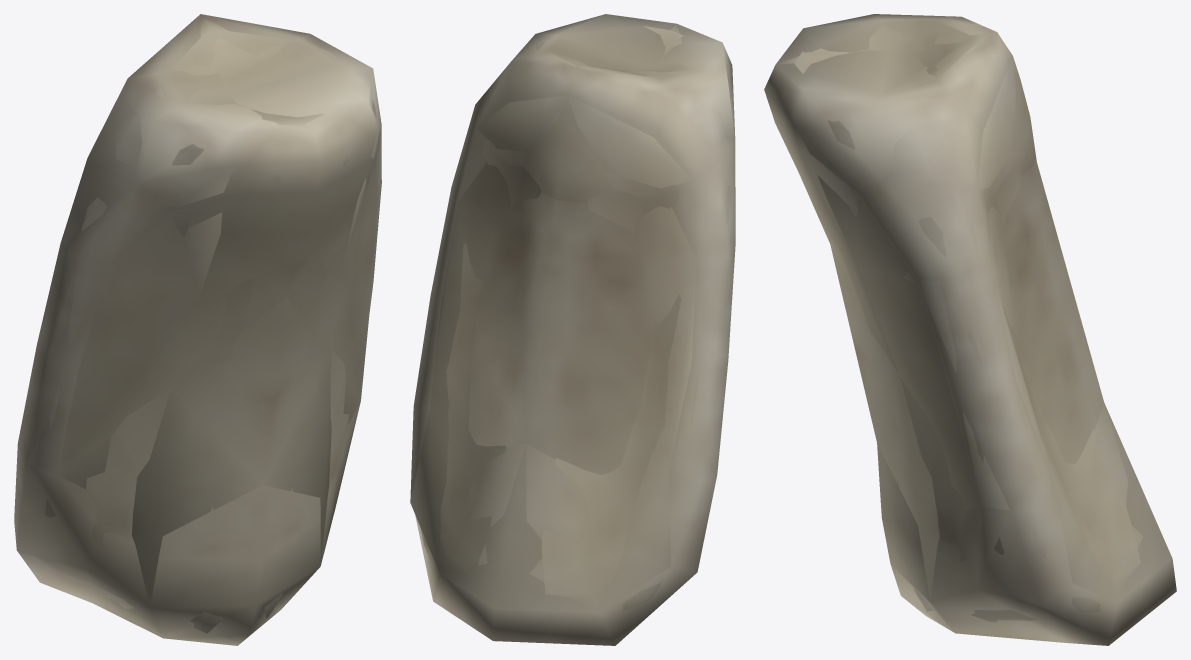
Rendered from vertebrae caudales 10.fbx.
3 renders of one model, left to right at view 1: azimuth 30°, elevation 25°; view 2: azimuth 150°, elevation 25°; view 3: azimuth 270°, elevation 25°, orthographic. The views are drawn at different scales.
Visible parts, largest first — view 1: vertebrae caudales 10, vertebrae caudales 10 low, vertebrae caudales 10 high; view 2: vertebrae caudales 10 low, vertebrae caudales 10, vertebrae caudales 10 high; view 3: vertebrae caudales 10, vertebrae caudales 10 low, vertebrae caudales 10 high.
Boxes of the visible parts, x1,y1,x2,y2 form: vertebrae caudales 10: [14, 14, 381, 645]; vertebrae caudales 10 low: [15, 14, 381, 644]; vertebrae caudales 10 high: [18, 38, 378, 633]; vertebrae caudales 10 low: [410, 14, 735, 645]; vertebrae caudales 10: [410, 14, 735, 645]; vertebrae caudales 10 high: [420, 26, 731, 611]; vertebrae caudales 10: [764, 14, 1176, 645]; vertebrae caudales 10 low: [767, 14, 1174, 641]; vertebrae caudales 10 high: [782, 18, 1140, 622].
Bounding box in the file's own units: 0.7994 × 1.38 × 0.8846.
Materials: 1 (1 with a texture image).
